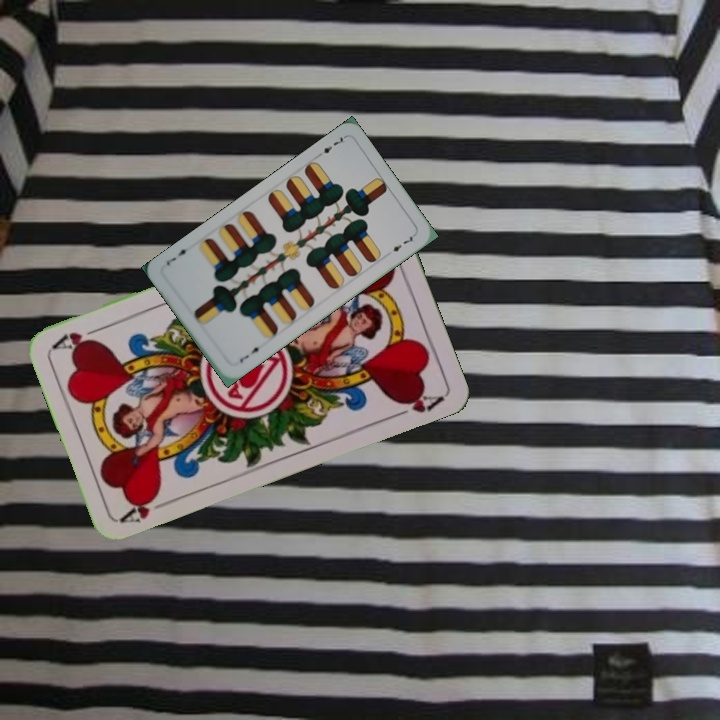E7: (312, 132, 349, 160), (235, 342, 265, 366)
HA: (116, 488, 174, 526)
